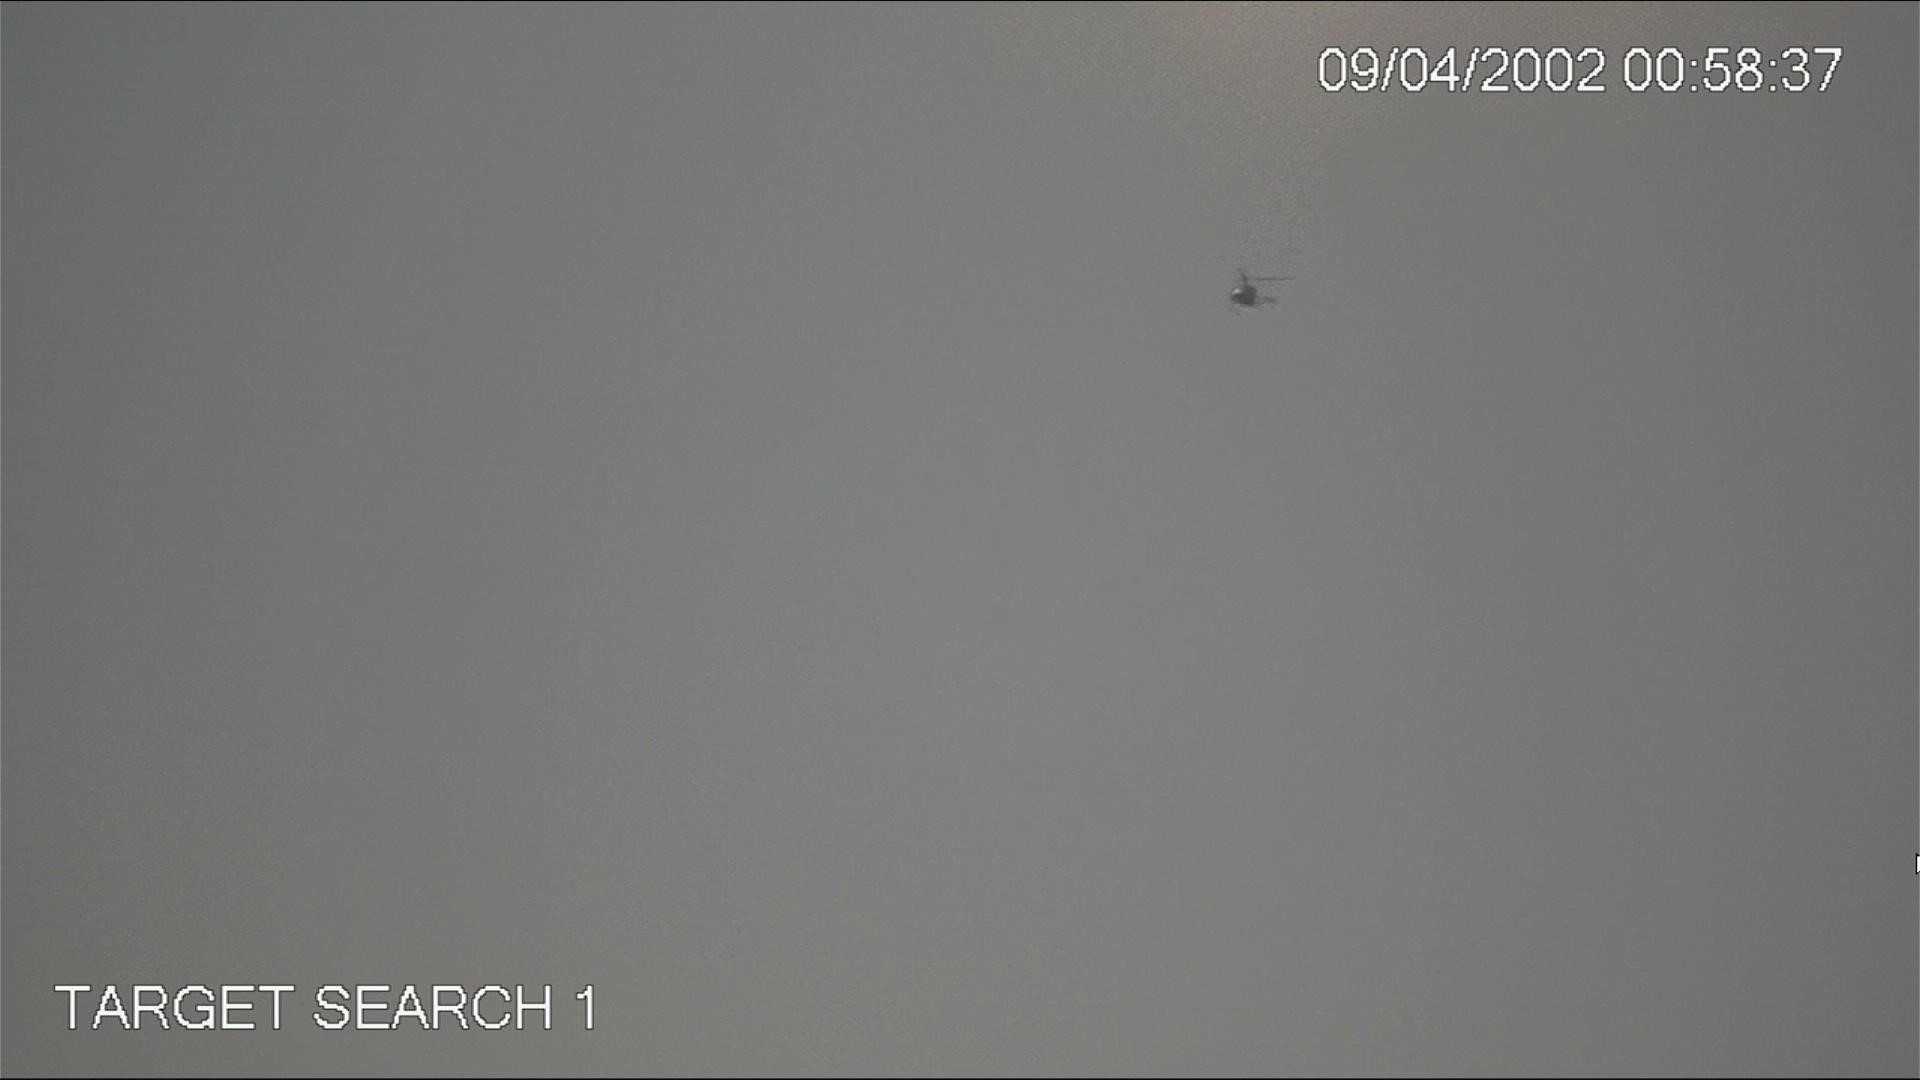SU_30: (1222, 266, 1288, 313)
